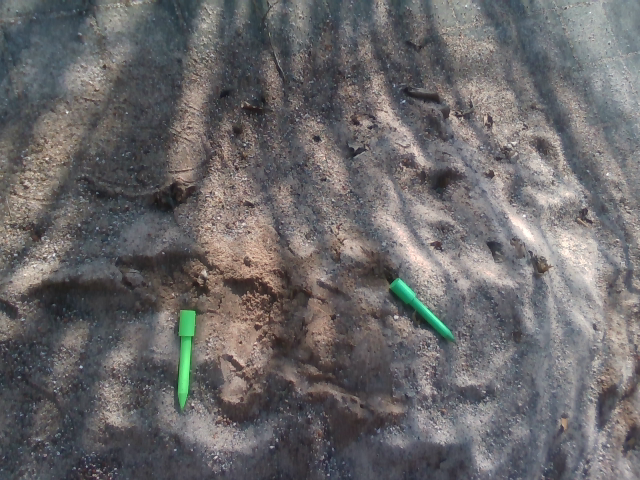Probe: (386, 273, 464, 349), (173, 302, 200, 418)
